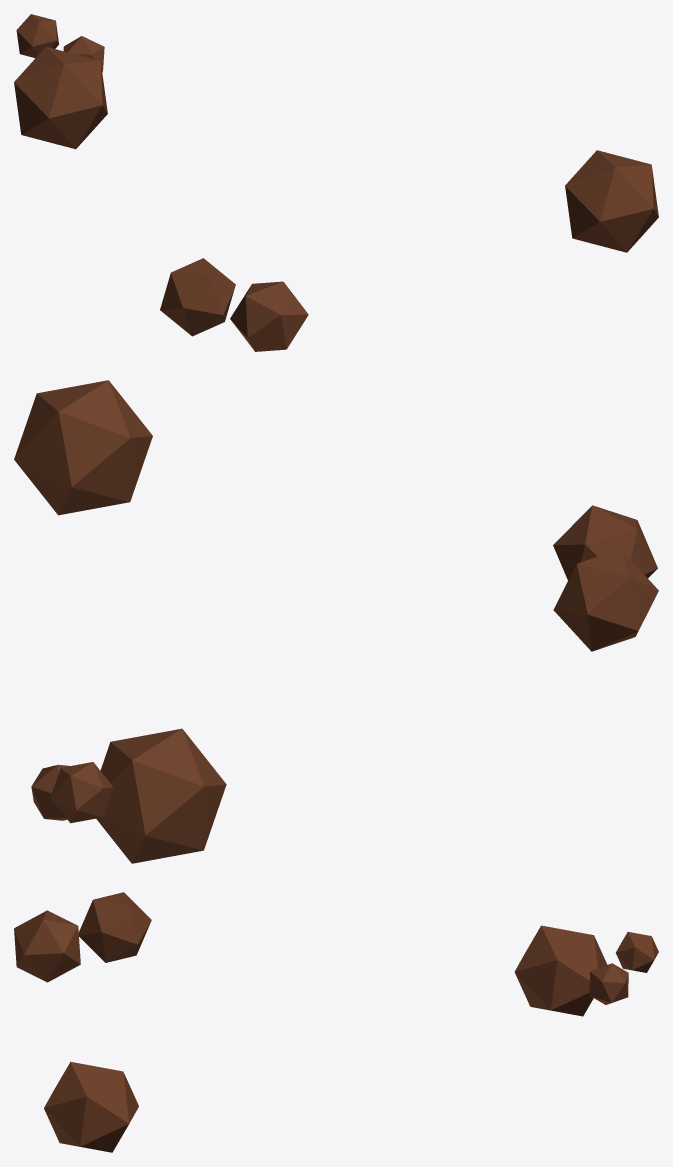
The model's file is tile1_rocks.fbx.
The picture shows the model from 3 angles, top to bottom: view 1: azimuth 30°, elevation 25°; view 2: azimuth 150°, elevation 25°; view 3: azimuth 270°, elevation 25°; orthographic projection. The views are drawn at different scales.
Parts seen in each view (by area): view 1: chao1; view 2: chao1; view 3: chao1.
Part boxes in pixels (<box>): chao1: <box>14,14,658,351</box>; chao1: <box>14,380,658,863</box>; chao1: <box>14,892,658,1152</box>.
Bounding box in the file's own units: 3.17 × 0.5913 × 3.93.
